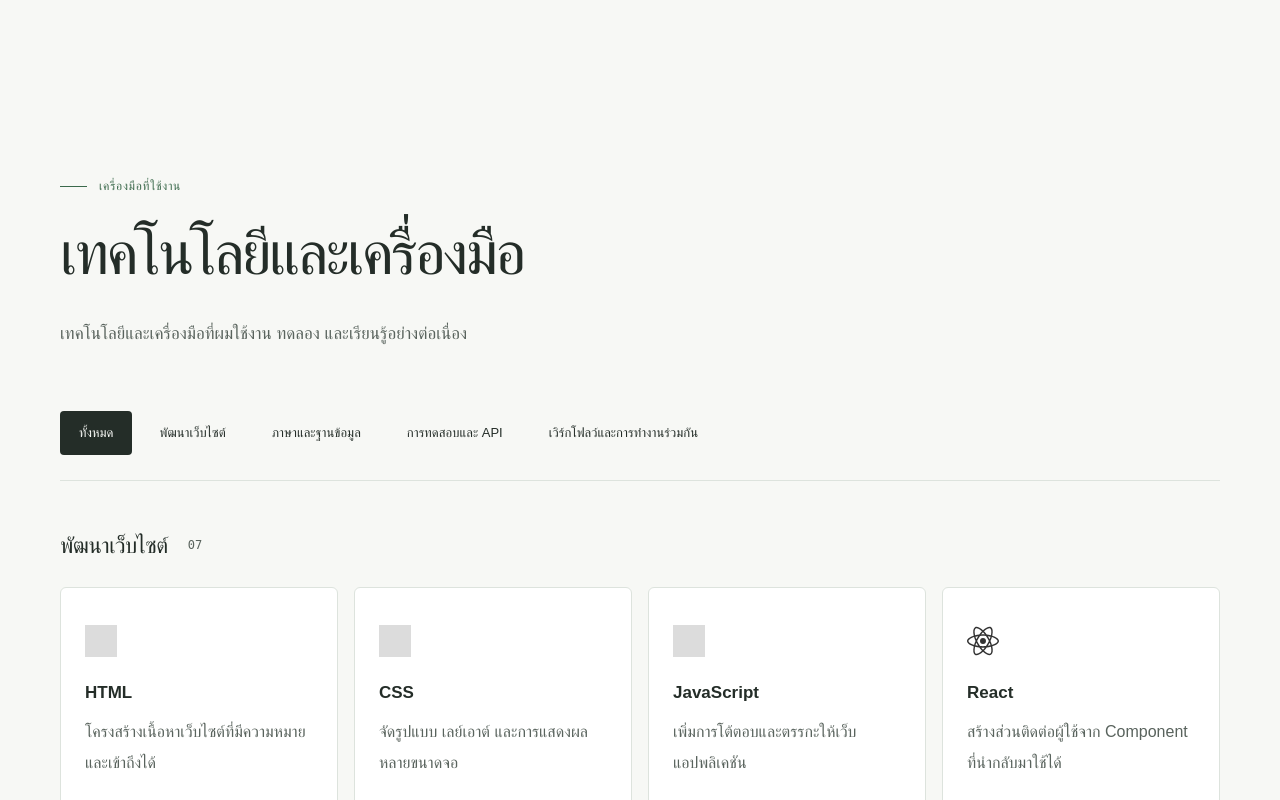
Test: preferences and tools › filters the 23 tools and keeps all descriptions visible on touch
Click the button "การทดสอบและ API" at [455, 433], box [388, 411, 522, 455]
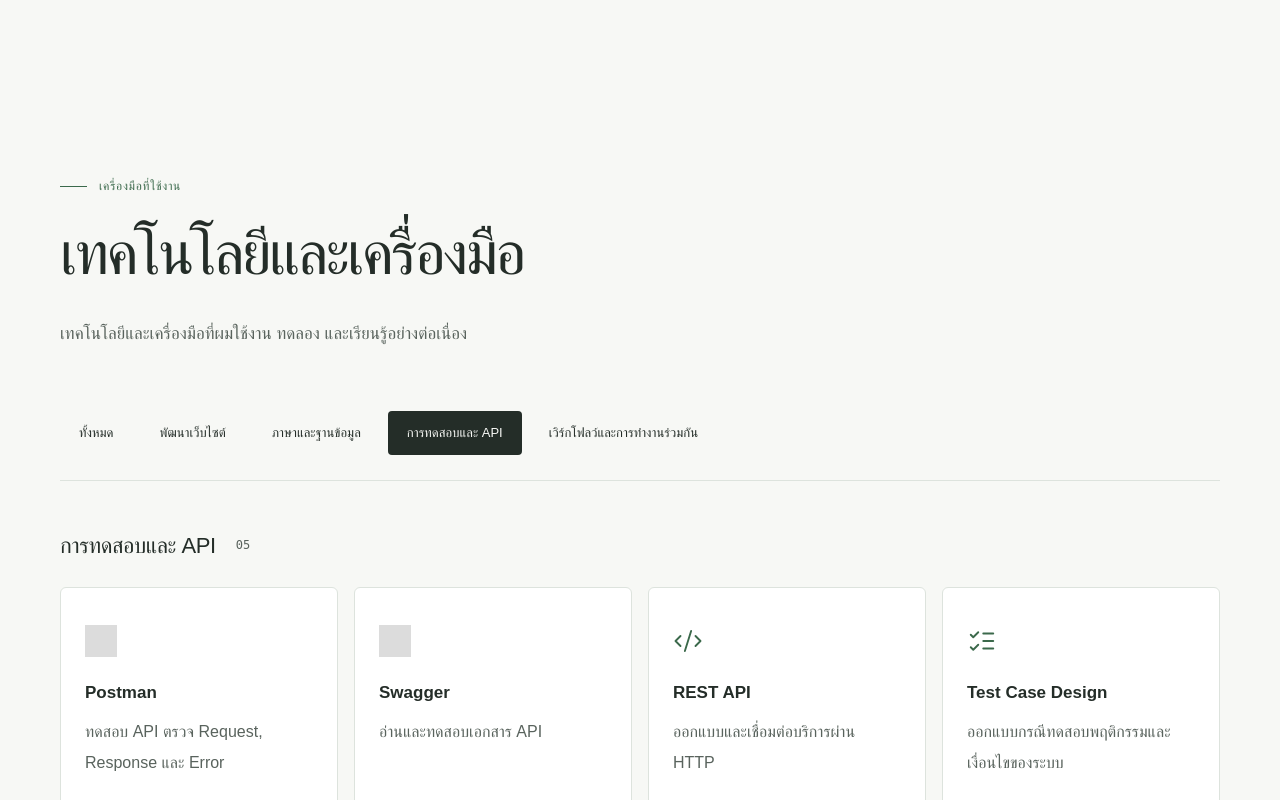
expect the heading "Postman" is shown: met, box [85, 683, 157, 702]
expect the heading "React" is gone: met
